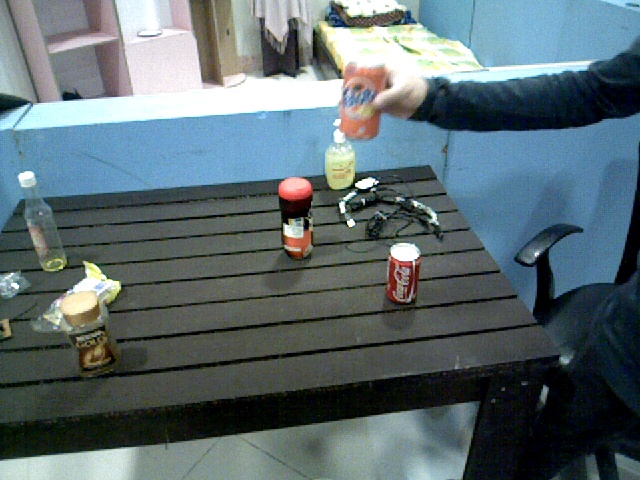coca: (390, 245, 419, 308)
coffee: (63, 292, 122, 380)
cream: (277, 176, 315, 264)
fanta: (340, 55, 384, 143)
